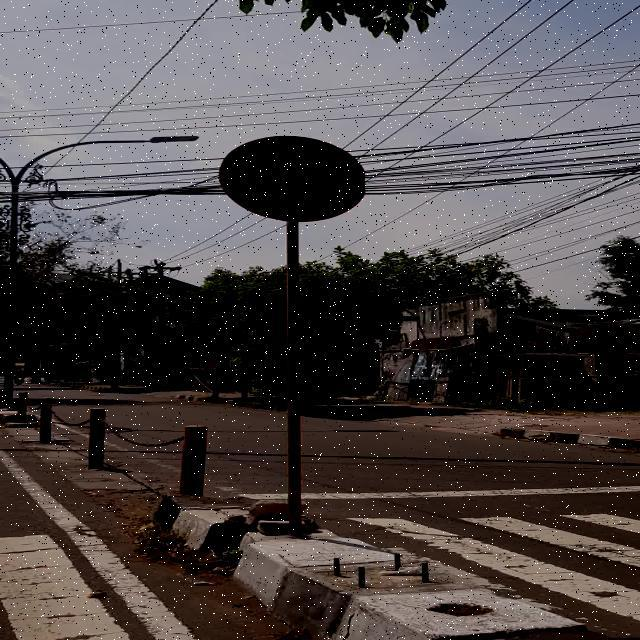Dilarang Putar Balik: (219, 135, 366, 222)
